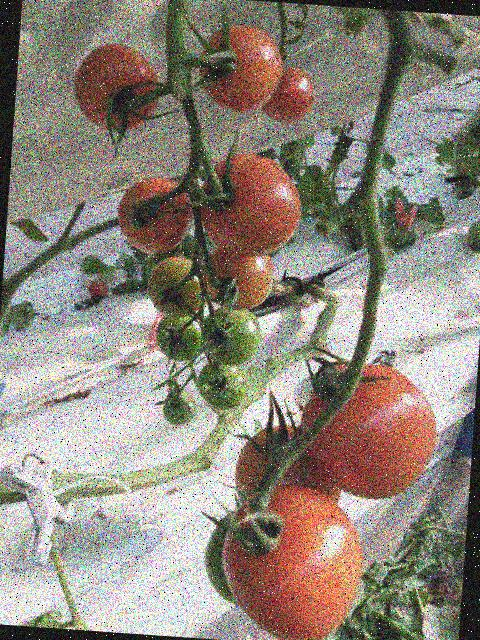l_fully_ripened: (215, 478, 368, 640), (296, 356, 442, 503), (195, 150, 306, 261), (232, 422, 345, 510), (70, 39, 164, 134), (195, 22, 284, 115), (114, 173, 195, 256), (198, 246, 275, 312), (259, 63, 316, 124)
l_green: (201, 506, 248, 607), (198, 304, 264, 368), (195, 359, 250, 411), (153, 311, 203, 363), (161, 387, 198, 426)
l_half_ripened: (145, 254, 206, 318)
